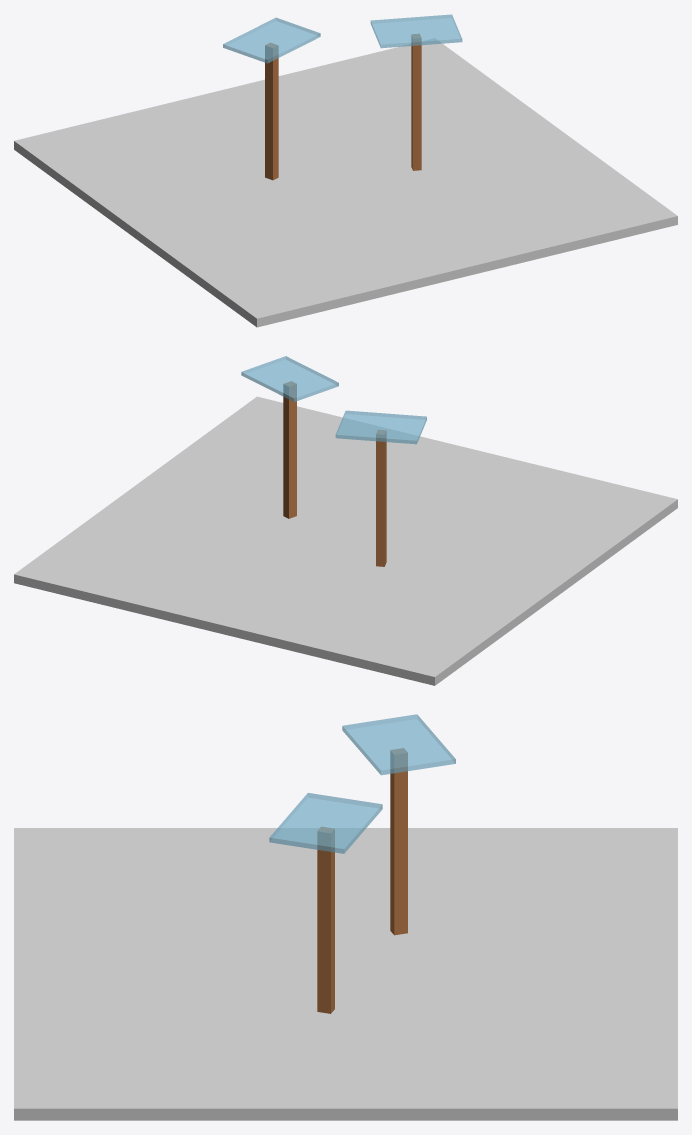
File: material-sample.glb
The picture shows the model from 3 angles, top to bottom: view 1: azimuth 30°, elevation 25°; view 2: azimuth 150°, elevation 25°; view 3: azimuth 270°, elevation 25°; orthographic projection. The views are drawn at different scales.
Parts seen in each view (by area): view 1: Reference ground 1, Glass 1, Glass 2, Timber 1, Timber 2; view 2: Reference ground 1, Glass 2, Glass 1, Timber 2, Timber 1; view 3: Reference ground 1, Glass 1, Glass 2, Timber 1, Timber 2.
Part boxes in pixels (bbox=[...]): Reference ground 1: bbox=[14, 38, 677, 327]; Glass 1: bbox=[223, 17, 320, 63]; Glass 2: bbox=[370, 14, 462, 48]; Timber 1: bbox=[265, 43, 278, 180]; Timber 2: bbox=[411, 34, 421, 170]; Reference ground 1: bbox=[14, 396, 677, 685]; Glass 2: bbox=[241, 356, 338, 401]; Glass 1: bbox=[335, 410, 426, 444]; Timber 2: bbox=[283, 381, 296, 518]; Timber 1: bbox=[376, 430, 386, 566]; Reference ground 1: bbox=[14, 828, 677, 1120]; Glass 1: bbox=[342, 714, 455, 775]; Glass 2: bbox=[269, 793, 382, 853]; Timber 1: bbox=[390, 748, 407, 935]; Timber 2: bbox=[317, 827, 334, 1013].
Size of the model in its own units: 10 by 3.35 by 10.
